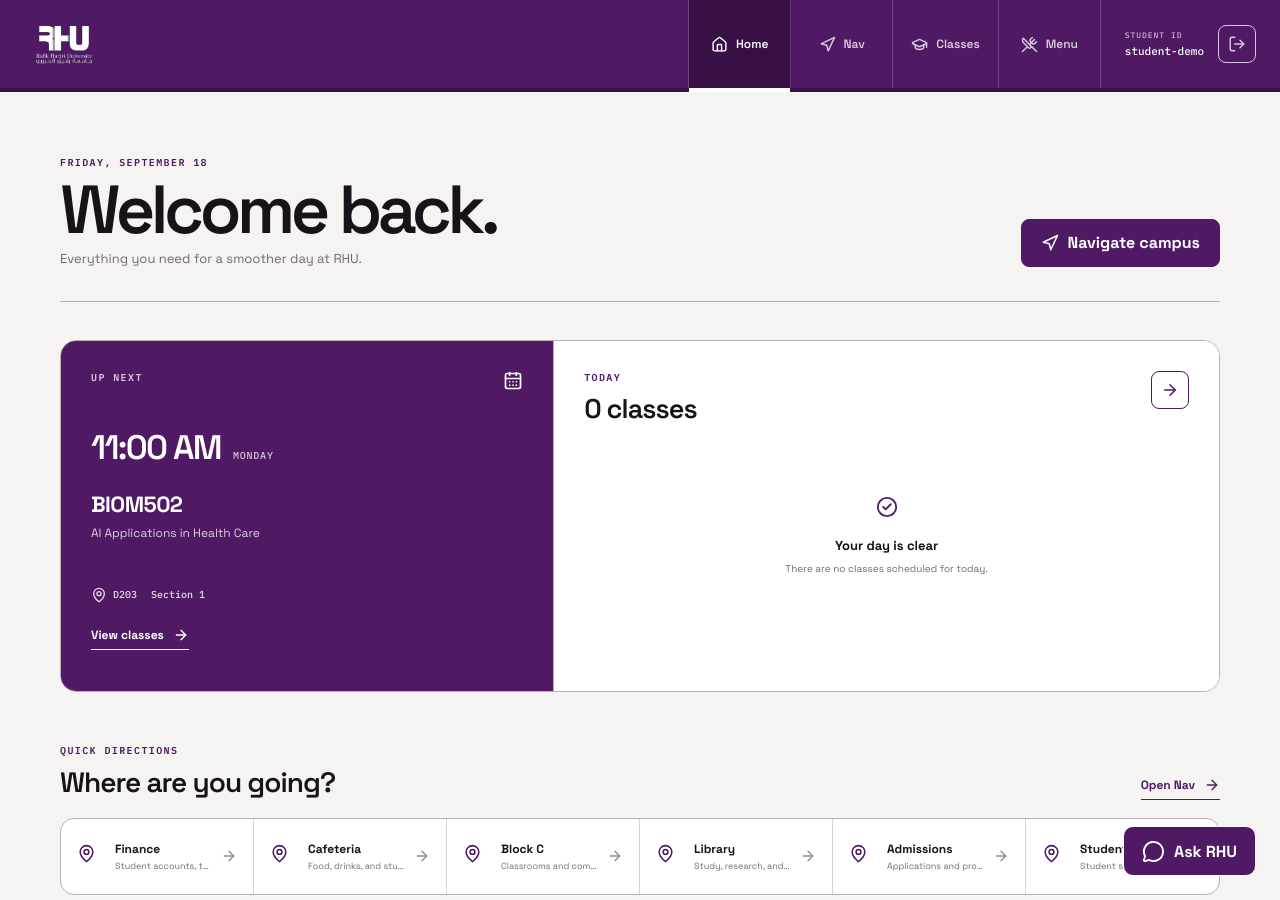
Test case: RHU student experience › shows the cafeteria menu without exposing assistant setup notes
Click the button "Menu": (1050, 44) [999,0,1101,88]
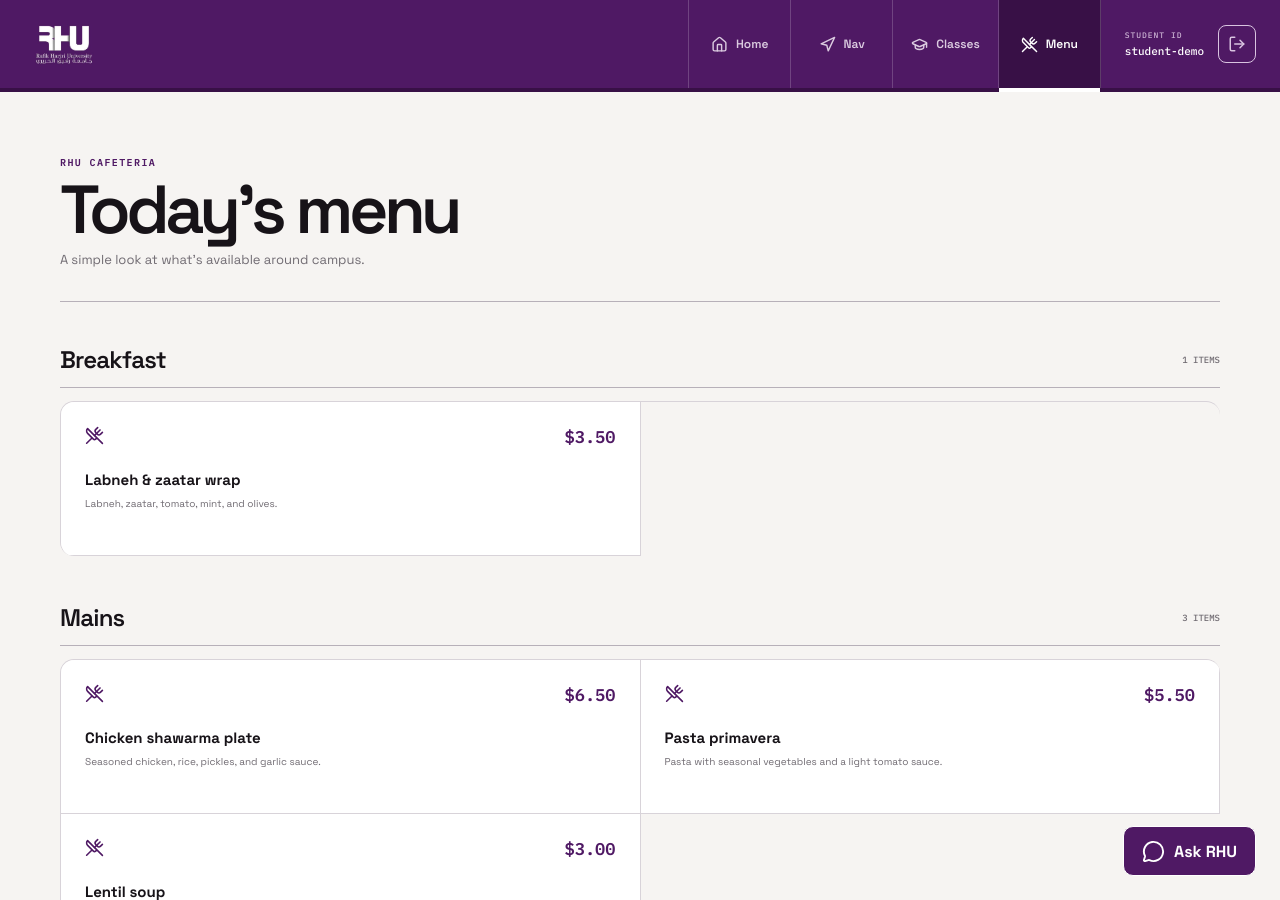
Result: the heading "Chicken shawarma plate" is shown at [85,728,261,747]
Result: the text "$6.50" is shown at [564,684,616,706]
Click the button with aria-label "Open Campus Assistant": (1190, 851) [1123,826,1256,876]
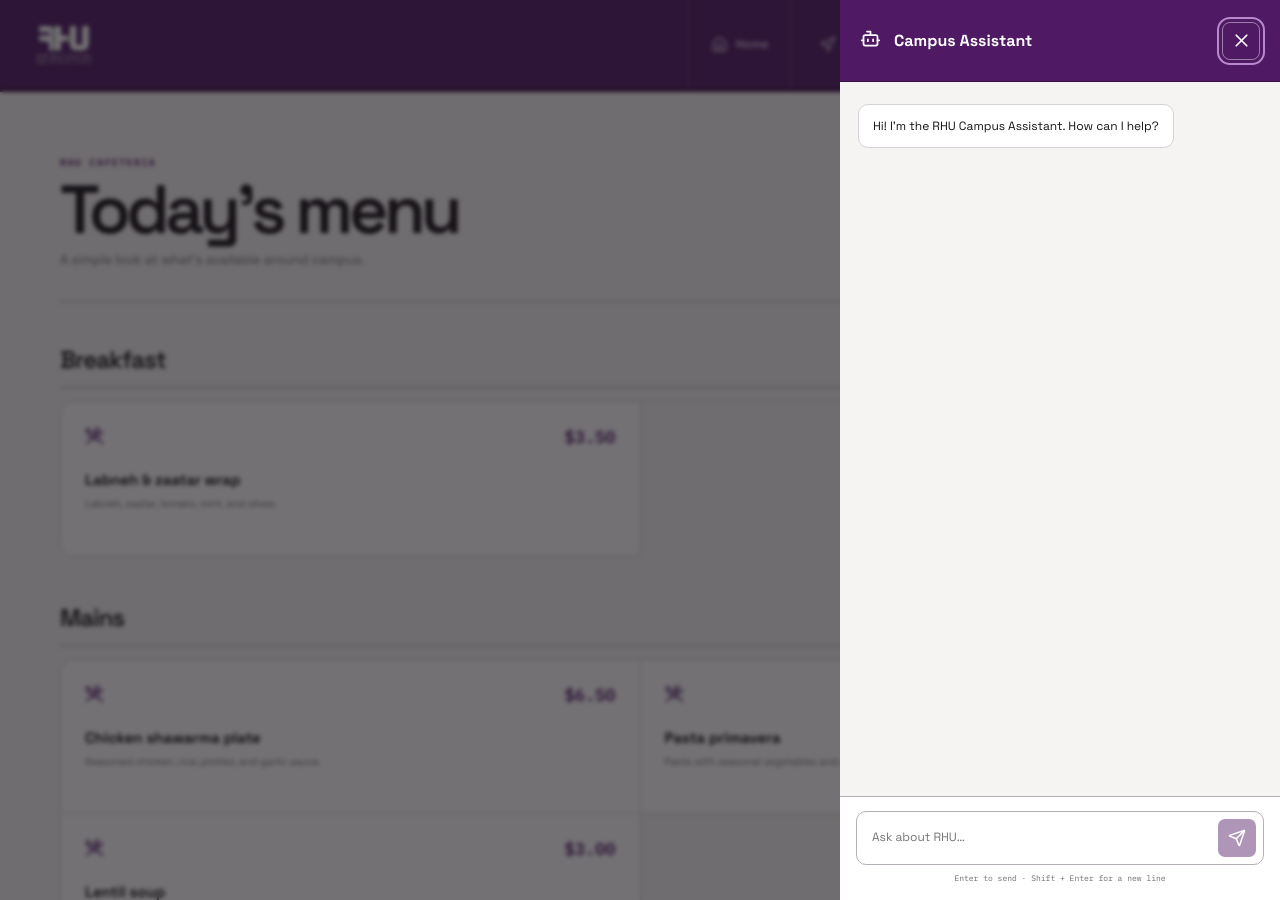
Result: the dialog "Campus Assistant" is shown at [840,0,1279,899]
